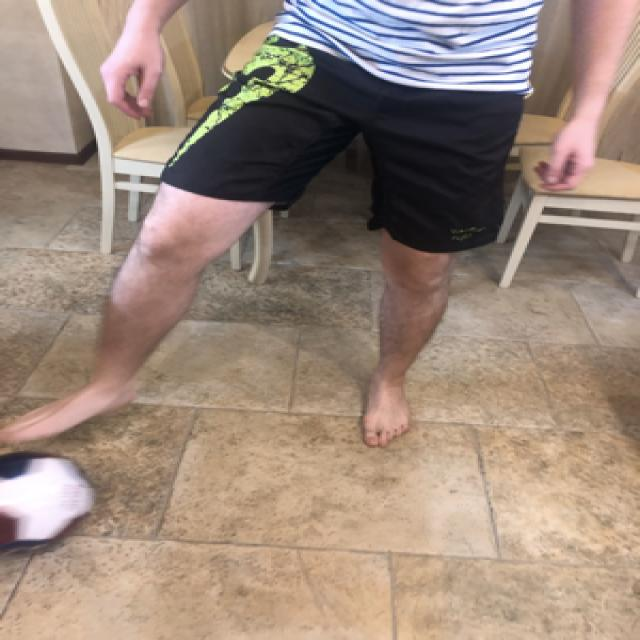soccer_ball: (0, 446, 92, 550)
